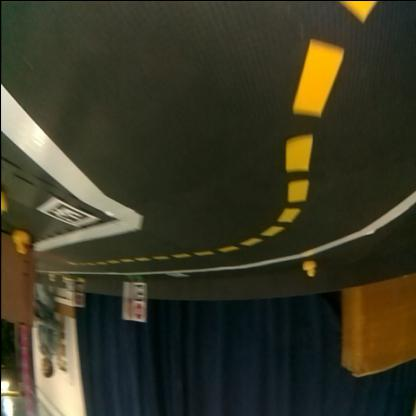Duckie: (12, 231, 30, 253), (302, 260, 316, 276), (1, 191, 7, 213)
QR code: (37, 197, 97, 228), (134, 284, 146, 300)
Stop sign: (132, 301, 144, 320)
